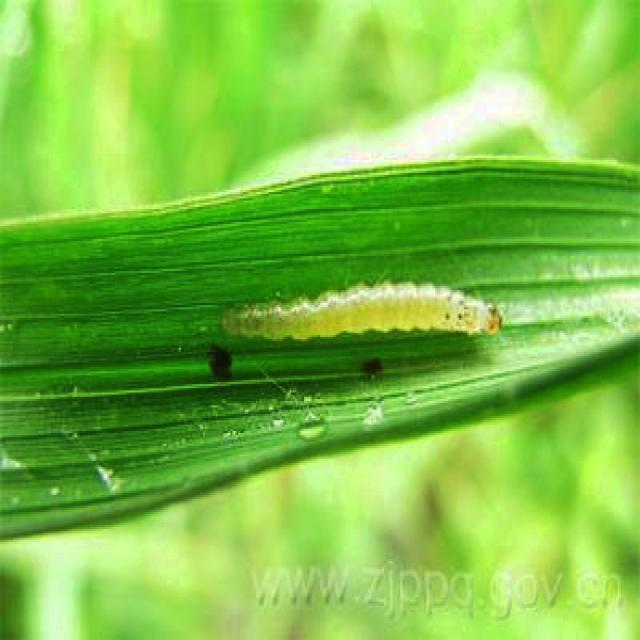leaf-folder: (199, 240, 525, 400)
